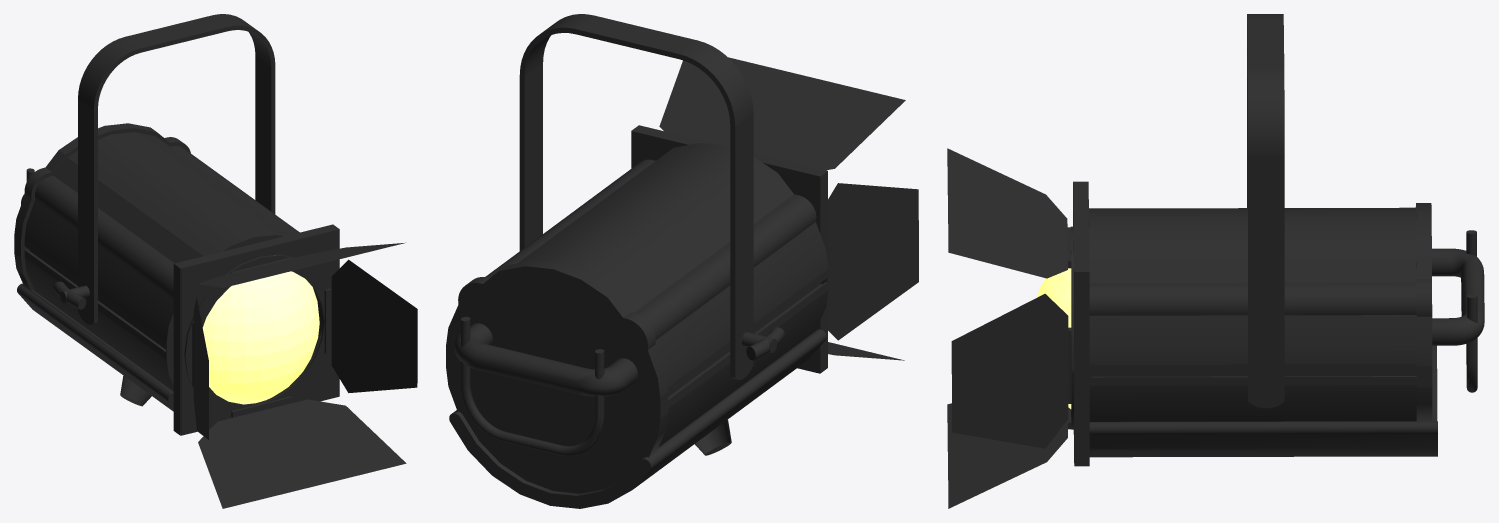
The model's file is fresnel-led.glb.
3 renders of one model, left to right at view 1: azimuth 30°, elevation 25°; view 2: azimuth 150°, elevation 25°; view 3: azimuth 270°, elevation 25°, orthographic. The views are drawn at different scales.
Parts seen in each view (by area): view 1: Touched_Plastic_Rough-material, Bulb_Emmision_Light-material; view 2: Touched_Plastic_Rough-material; view 3: Touched_Plastic_Rough-material, Bulb_Emmision_Light-material.
Boxes of the visible parts, x1,y1,x2,y2 form: Touched_Plastic_Rough-material: (14,14,417,508); Bulb_Emmision_Light-material: (202,271,319,404); Touched_Plastic_Rough-material: (446,14,918,508); Touched_Plastic_Rough-material: (947,14,1484,508); Bulb_Emmision_Light-material: (1036,268,1071,408).
Bounding box in the file's own units: 0.3265 × 0.5016 × 0.5938.
